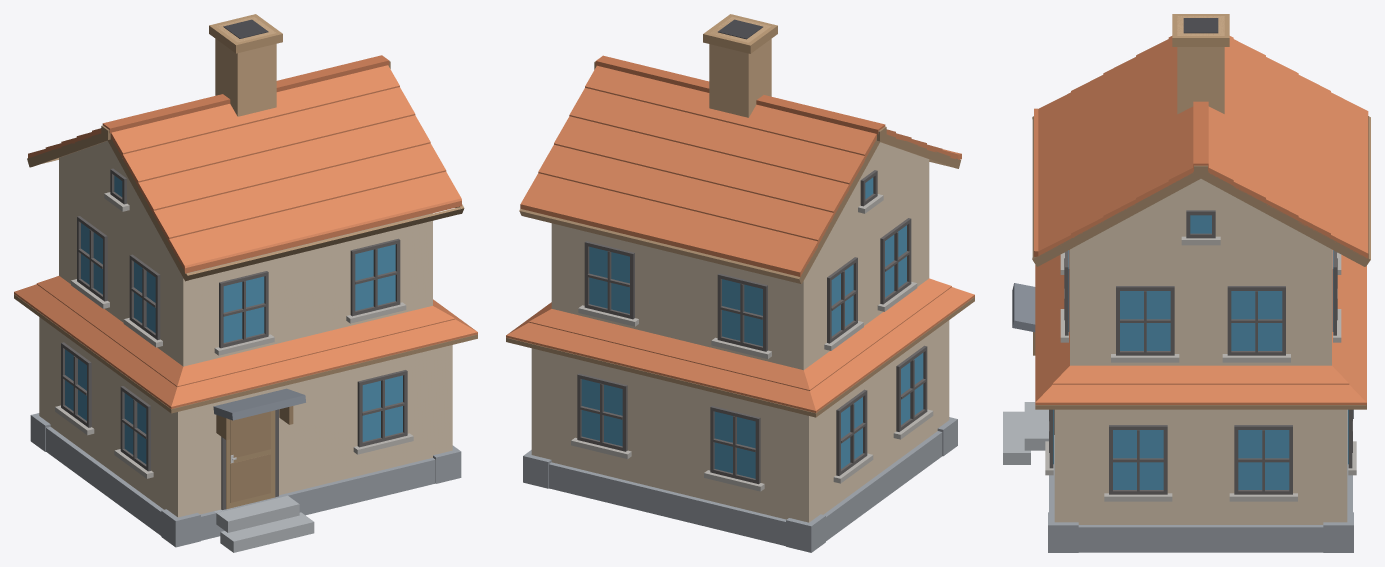
Rendered from mills q4 worker house c.fbx.
3 views of the same model, side by side, from view 1: azimuth 30°, elevation 25°; view 2: azimuth 150°, elevation 25°; view 3: azimuth 270°, elevation 25° (orthographic). The views are drawn at different scales.
Visible parts, largest first — view 1: Walls_Upper; view 2: Walls_Upper; view 3: Walls_Upper.
Part boxes in pixels (x1=…): Walls_Upper: x1=14, y1=14, x2=477, y2=552; Walls_Upper: x1=506, y1=14, x2=974, y2=552; Walls_Upper: x1=1003, y1=14, x2=1370, y2=552.
Bounding box in the file's own units: 536 × 719 × 528.
